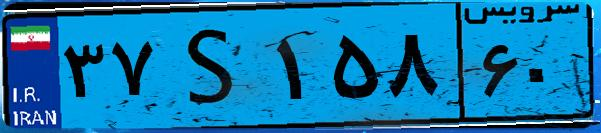0: (525, 38, 570, 115)
1: (270, 28, 330, 110)
3: (57, 26, 110, 100)
5: (330, 28, 385, 110)
6: (475, 38, 525, 113)
7: (110, 28, 158, 98)
8: (385, 28, 445, 110)
S: (158, 12, 270, 120)
